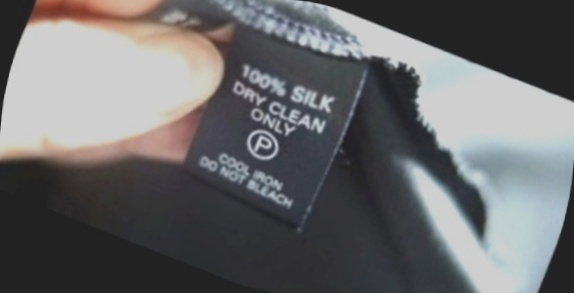dry_clean_any_solvent_except_trichloroethylene: (234, 116, 294, 173)
